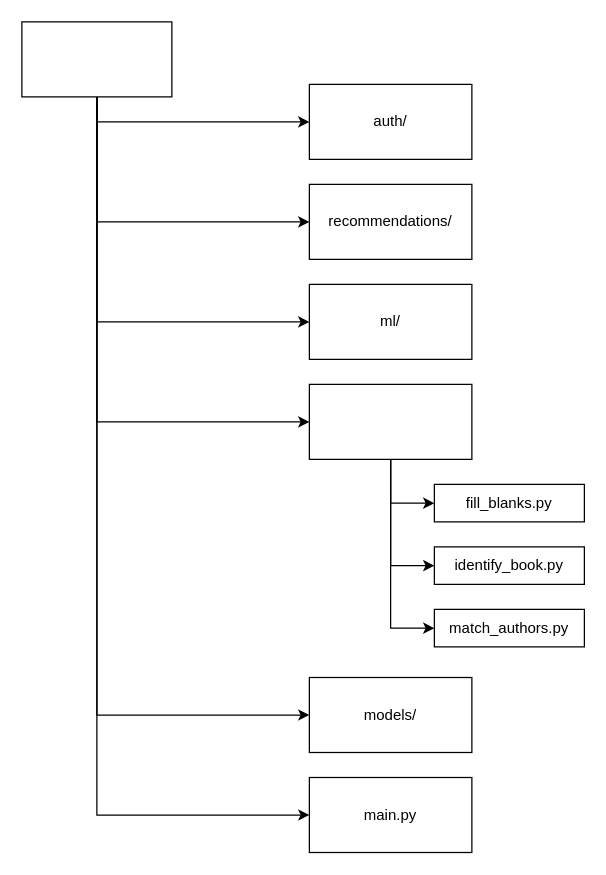
This 606x875 diagram has some shape labels left out. Each missing label, with the box of its shape:
biblo_backend/: (21, 21, 172, 97)
games/: (308, 383, 472, 459)
